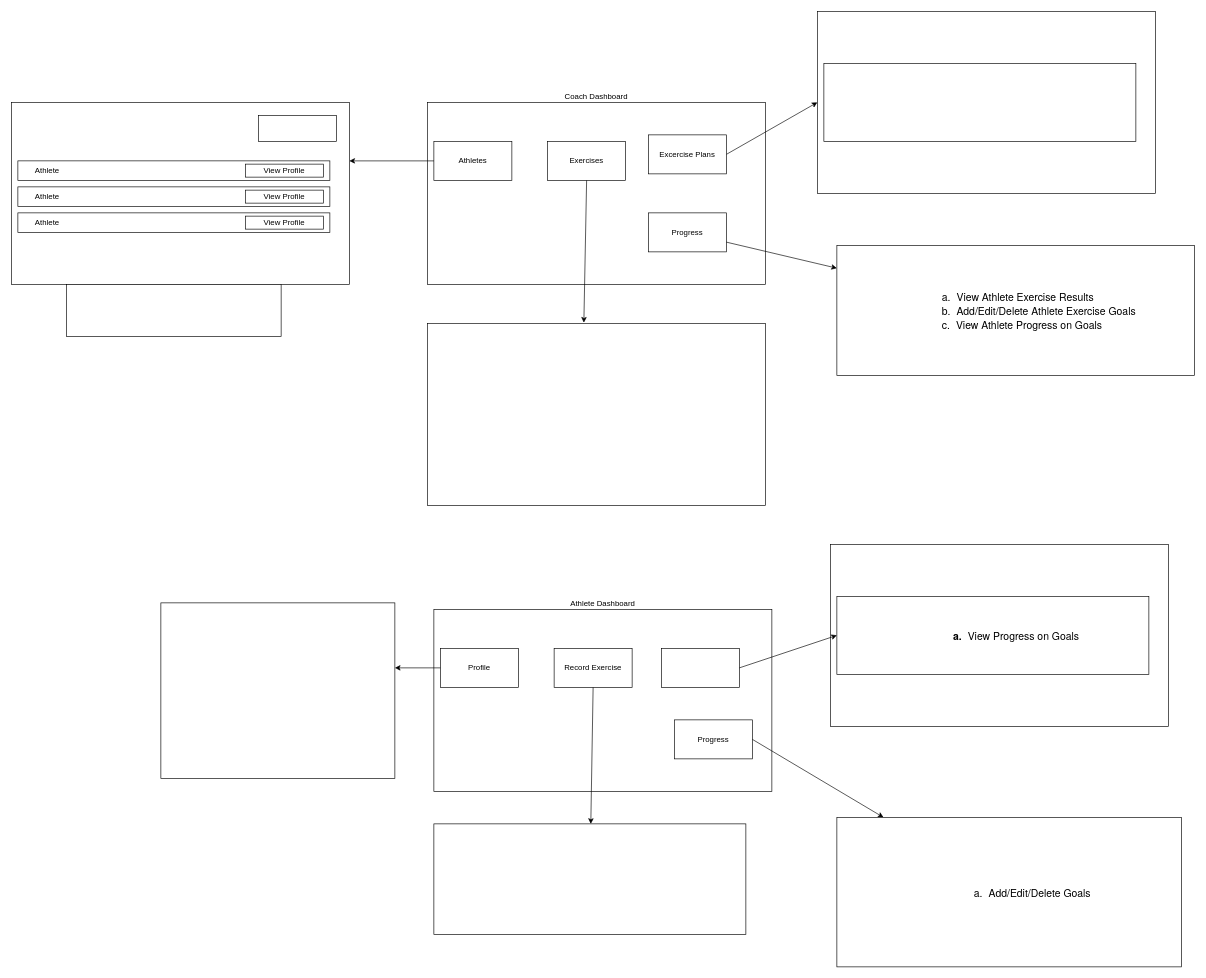
This 1206x978 diagram has some shape labels left out. Each missing label, with the centre of its shape:
a. Add Athletes b. View Athlete Profile: point 173,310
a. View Exercise Plans b. Add/Edit Exercise Plans: point 979,102
a. View Exercise Results b. Record Exercise Results: point 589,878
a. View Exercises b. Add/Edit Exercises: point 596,414
a. View Profile b. Edit Profile: point 277,690
Add Athlete: point 297,128
Goals: point 700,667
